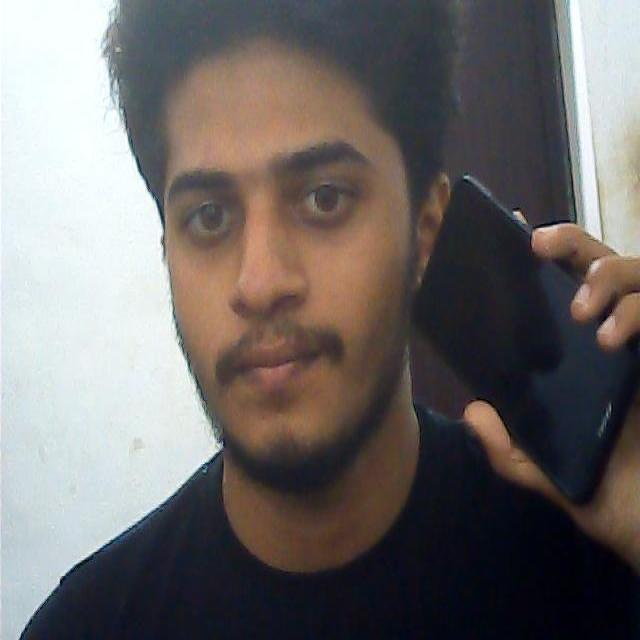phone: (413, 175, 640, 509)
